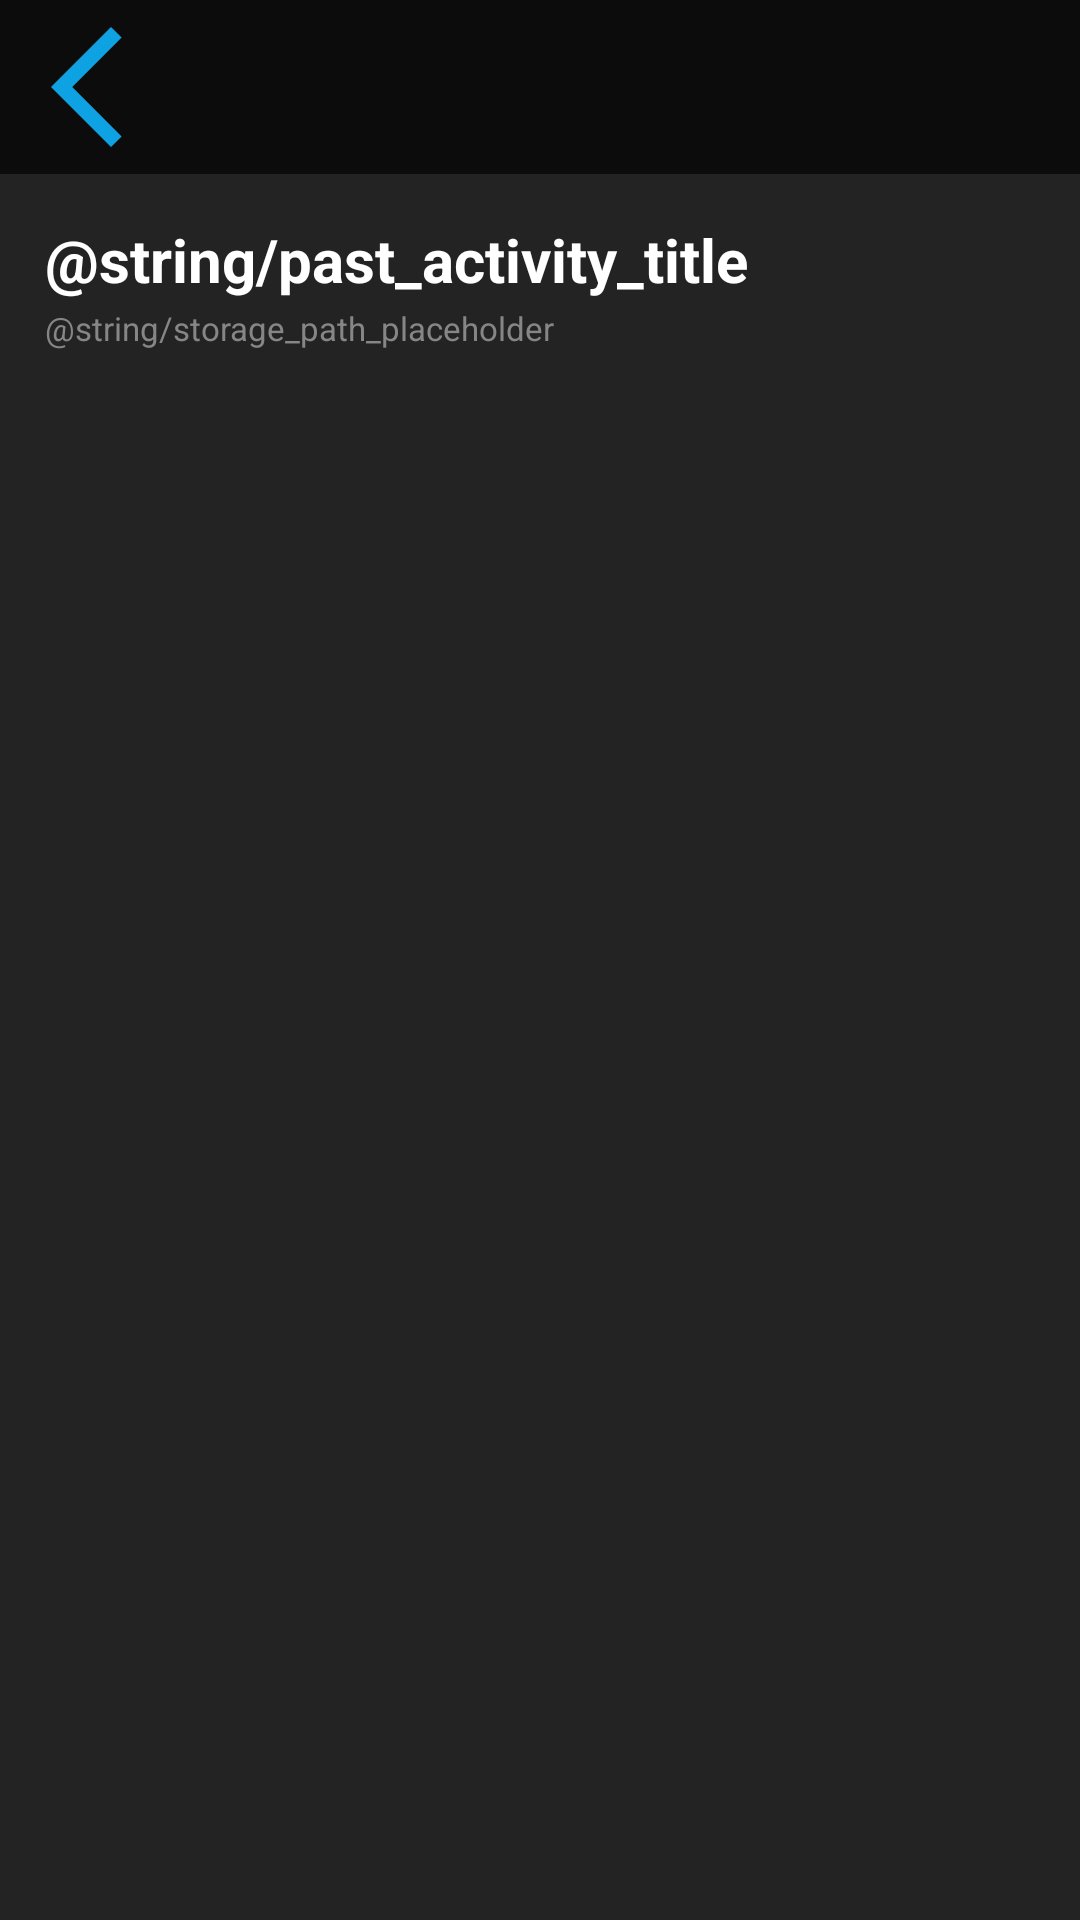

Screen size 1080 x 1920. Icon name, then its box in pixels as (x1, y1, x2, y2):
arrow back: (51, 27, 122, 147)
